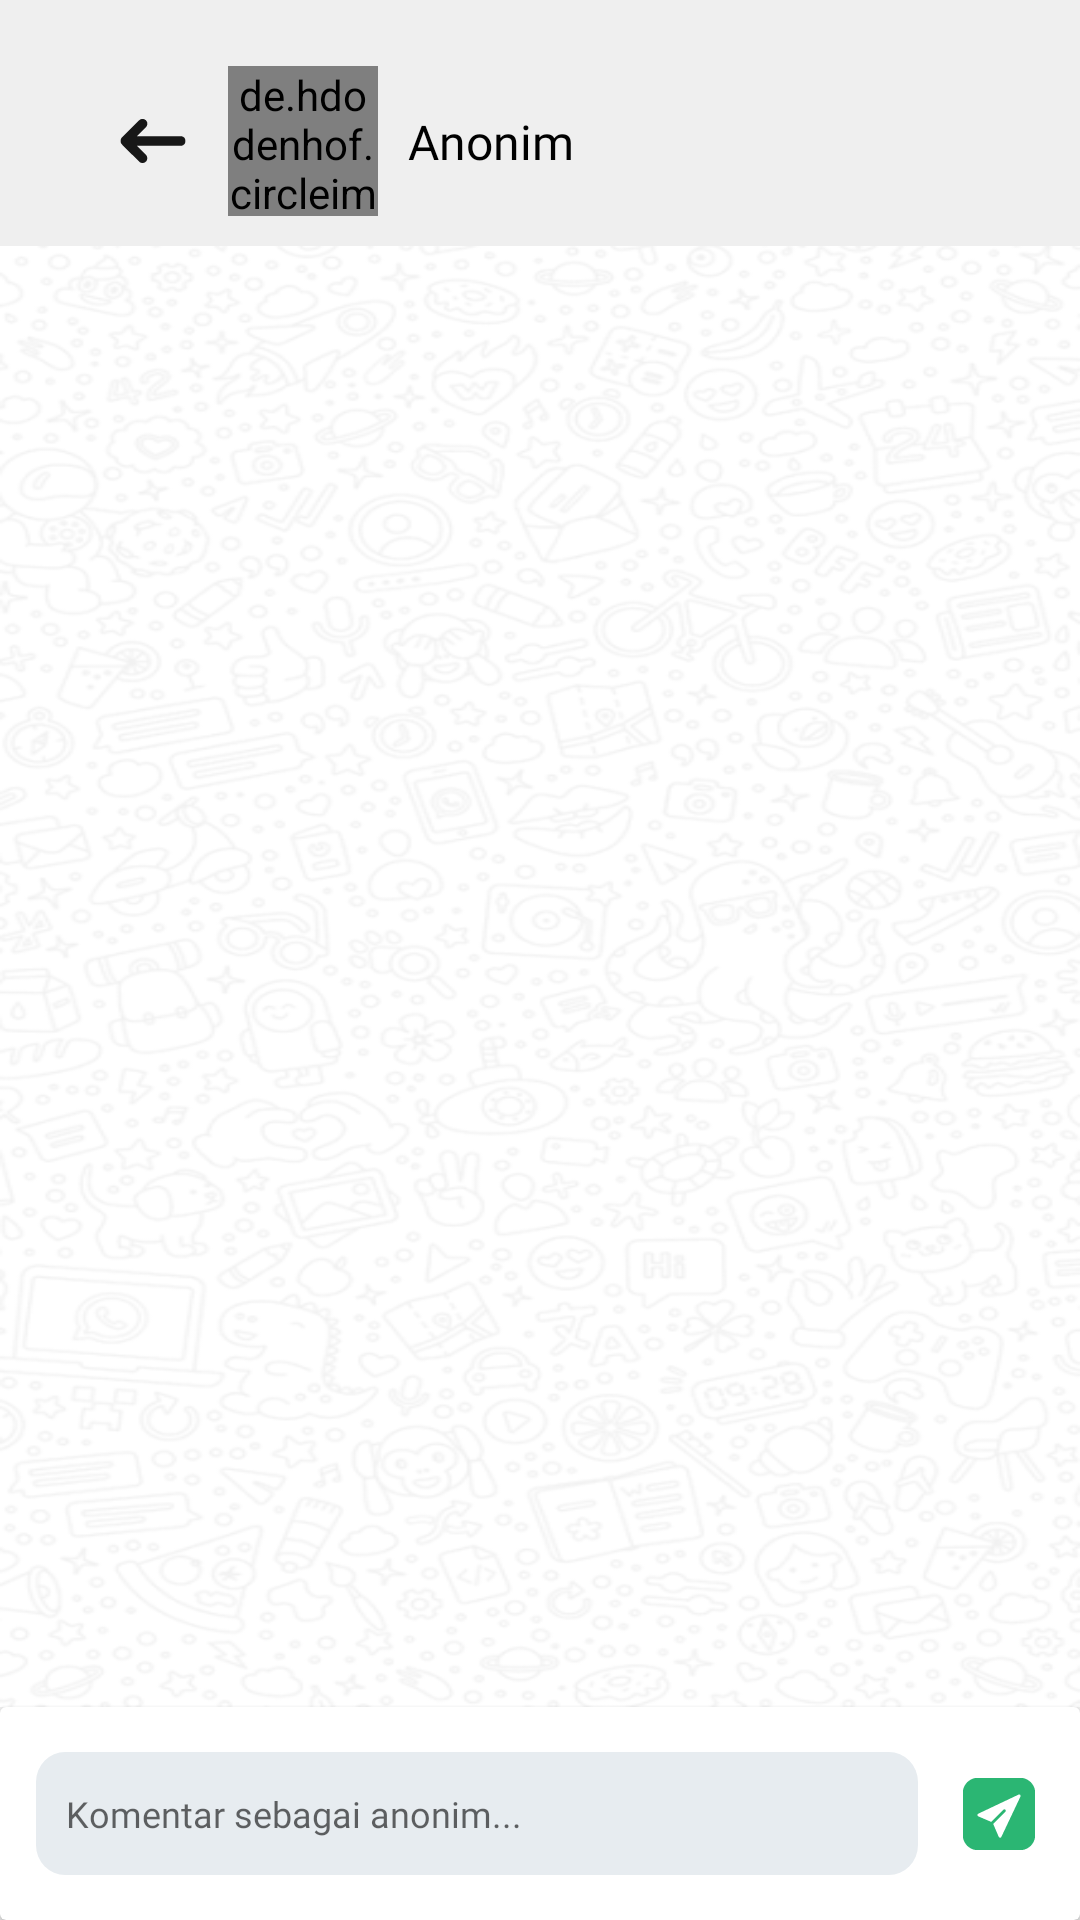

Named icons in this screenshot (1080px x 1920px) and their centers, (x=x, y=y):
arrow left: (x=153, y=141)
send: (x=999, y=1814)
